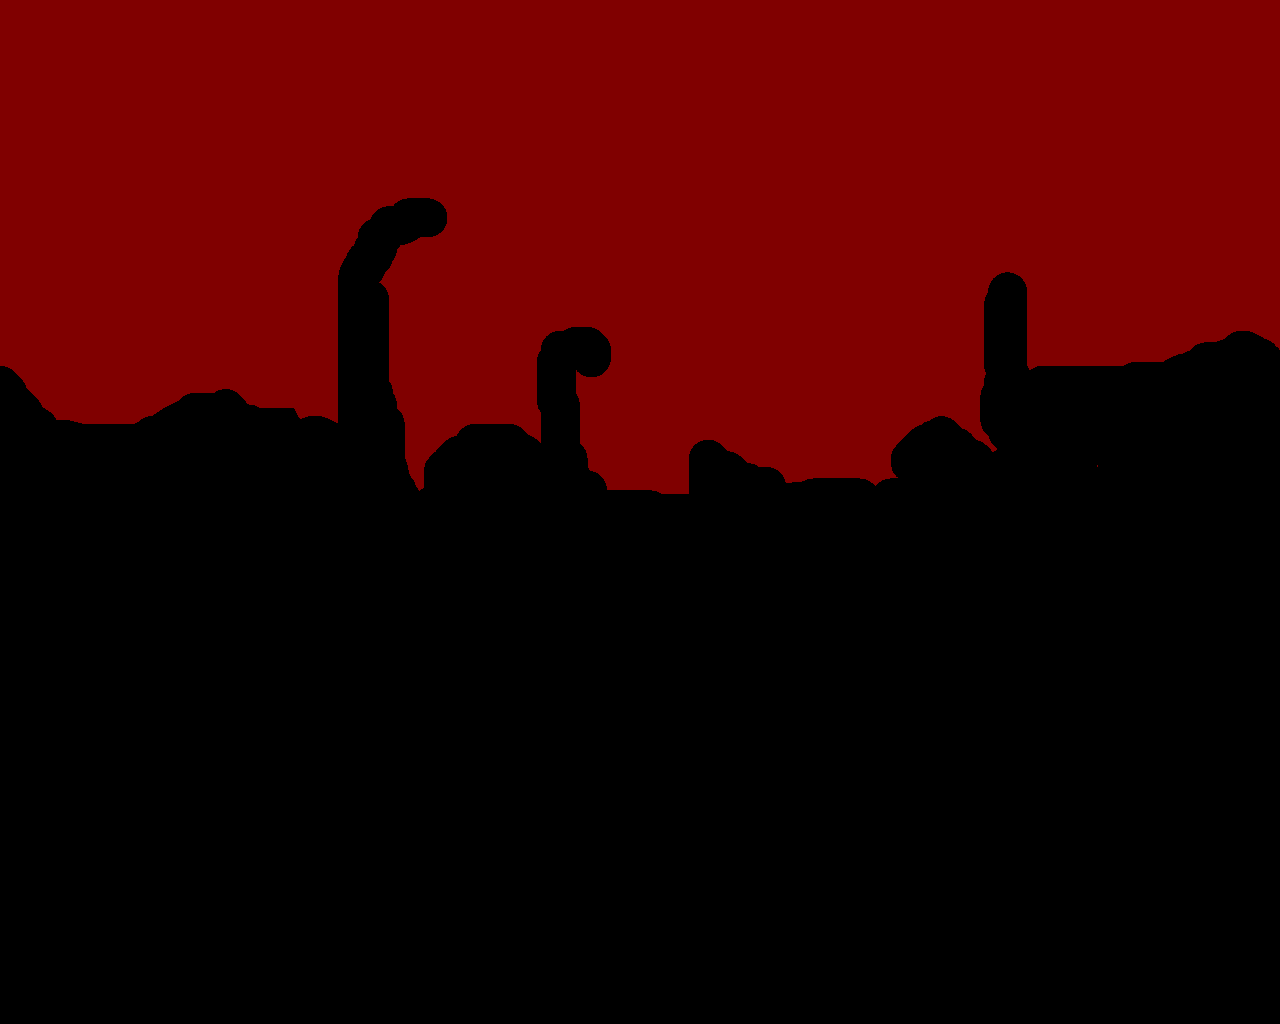Sky: (1, 1, 1279, 494)
